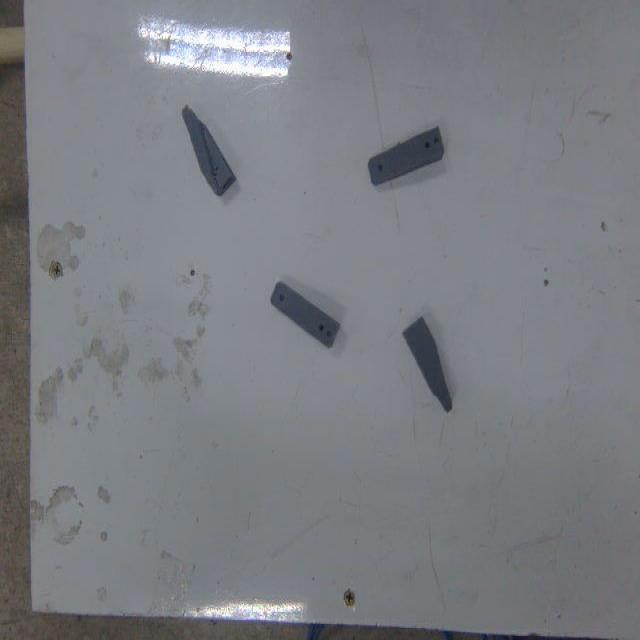grey: (368, 123, 446, 192), (270, 278, 340, 354)
head: (276, 290, 290, 309), (374, 163, 388, 180)
